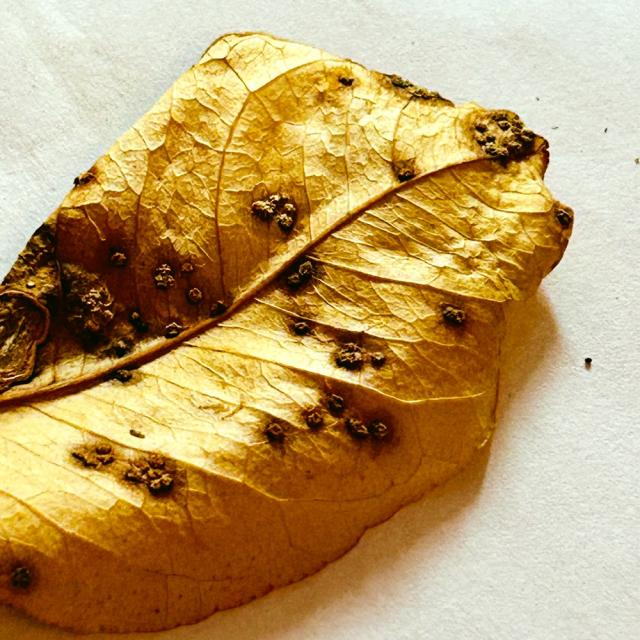DryLeaf_Lemon: (0, 33, 573, 630)
